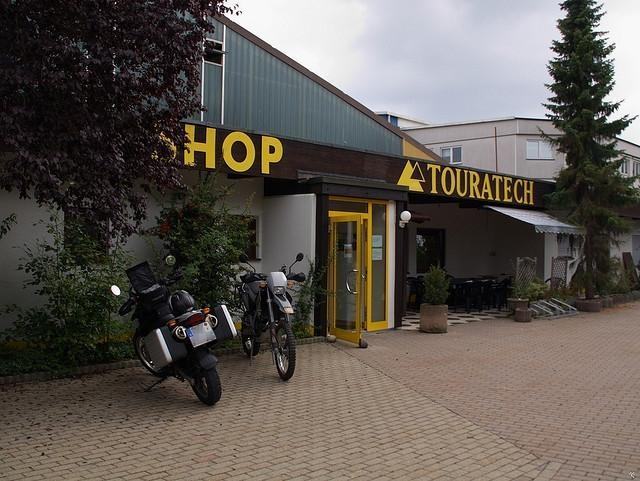motorcycle: (110, 256, 236, 406), (234, 252, 306, 381)
